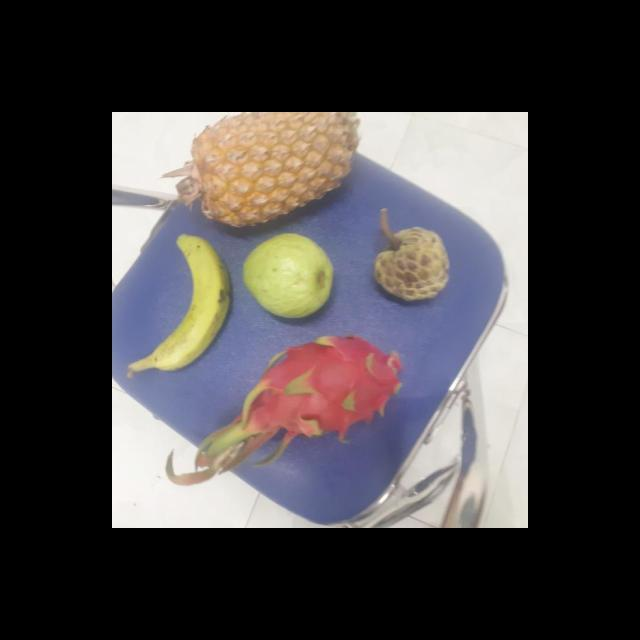Sakya fruit: (375, 225, 453, 302)
banana: (145, 233, 234, 374)
guava: (243, 234, 340, 318)
pineapple: (193, 112, 359, 223)
pitaya: (245, 333, 410, 445)
